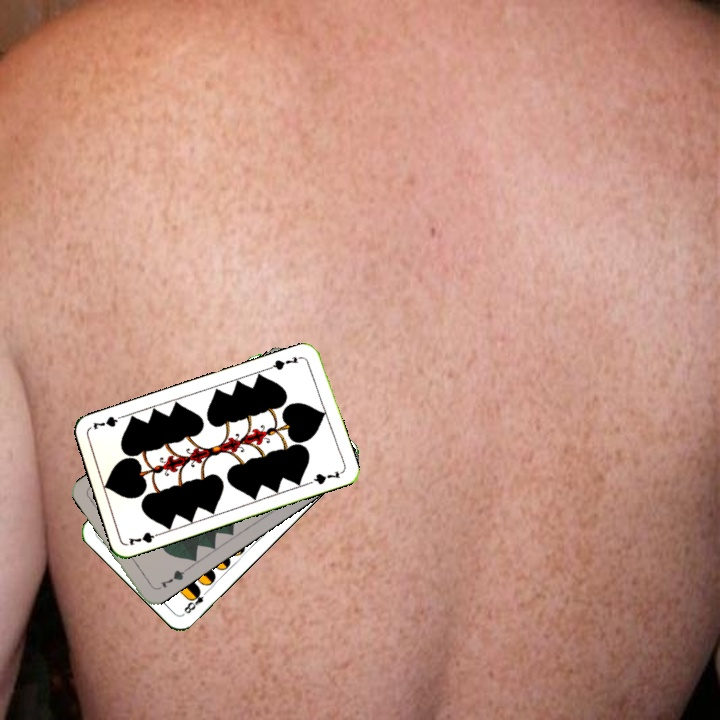E8: (179, 585, 212, 617)
G7: (153, 565, 189, 592), (266, 352, 305, 373), (125, 528, 165, 548)
